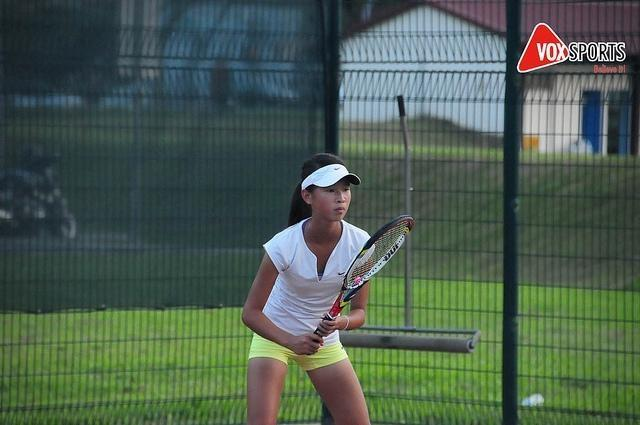motorcycle: (0, 140, 77, 241)
